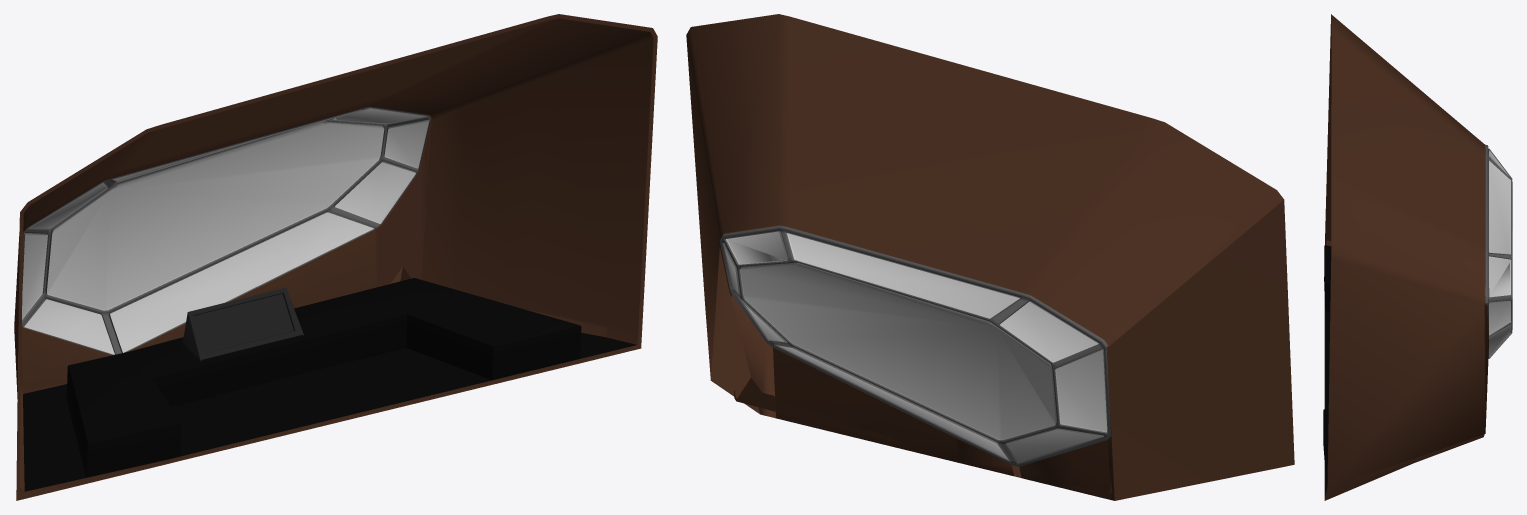
File: Cockpit_Fin.fbx
3 renders of one model, left to right at view 1: azimuth 30°, elevation 25°; view 2: azimuth 150°, elevation 25°; view 3: azimuth 270°, elevation 25°, orthographic. The views are drawn at different scales.
Visible parts, largest first — view 1: CP_Inside_hull; view 2: CP_Inside_hull; view 3: CP_Inside_hull.
Boxes of the visible parts, x1,y1,x2,y2 form: CP_Inside_hull: (14, 14, 657, 500); CP_Inside_hull: (686, 14, 1294, 500); CP_Inside_hull: (1323, 14, 1512, 500).
Size of the model in its own units: 432 by 224 by 133.
